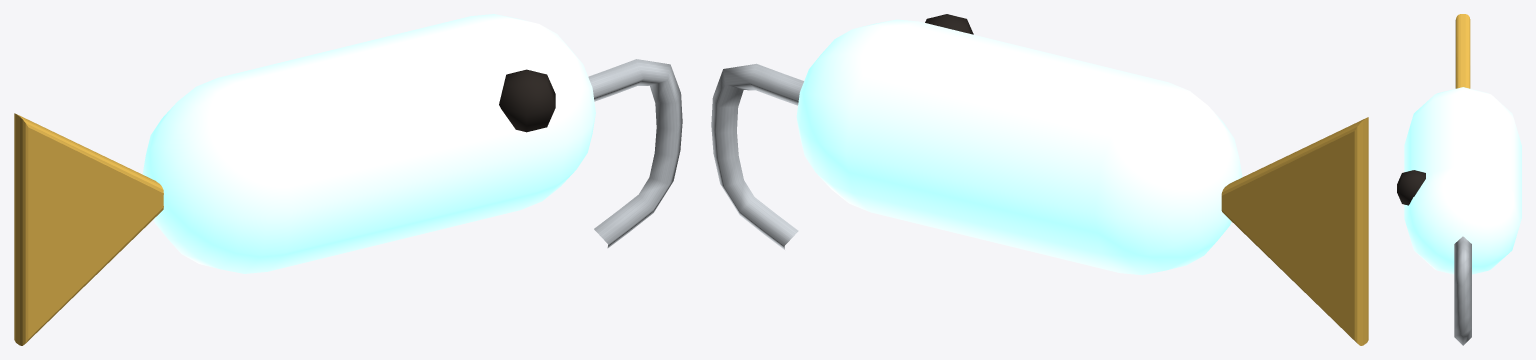
The model's file is bait_glow.glb.
3 views of the same model, side by side, from view 1: azimuth 30°, elevation 25°; view 2: azimuth 150°, elevation 25°; view 3: azimuth 270°, elevation 25° (orthographic). The views are drawn at different scales.
Parts seen in each view (by area): view 1: bait_glow; view 2: bait_glow; view 3: bait_glow.
Part boxes in pixels (<box>): bait_glow: <box>14,14,682,345</box>; bait_glow: <box>711,14,1368,345</box>; bait_glow: <box>1397,14,1521,345</box>.
Size of the model in its own units: 0.0919 by 0.0367 by 0.0255.
Materials: 4 (1 with a texture image).
